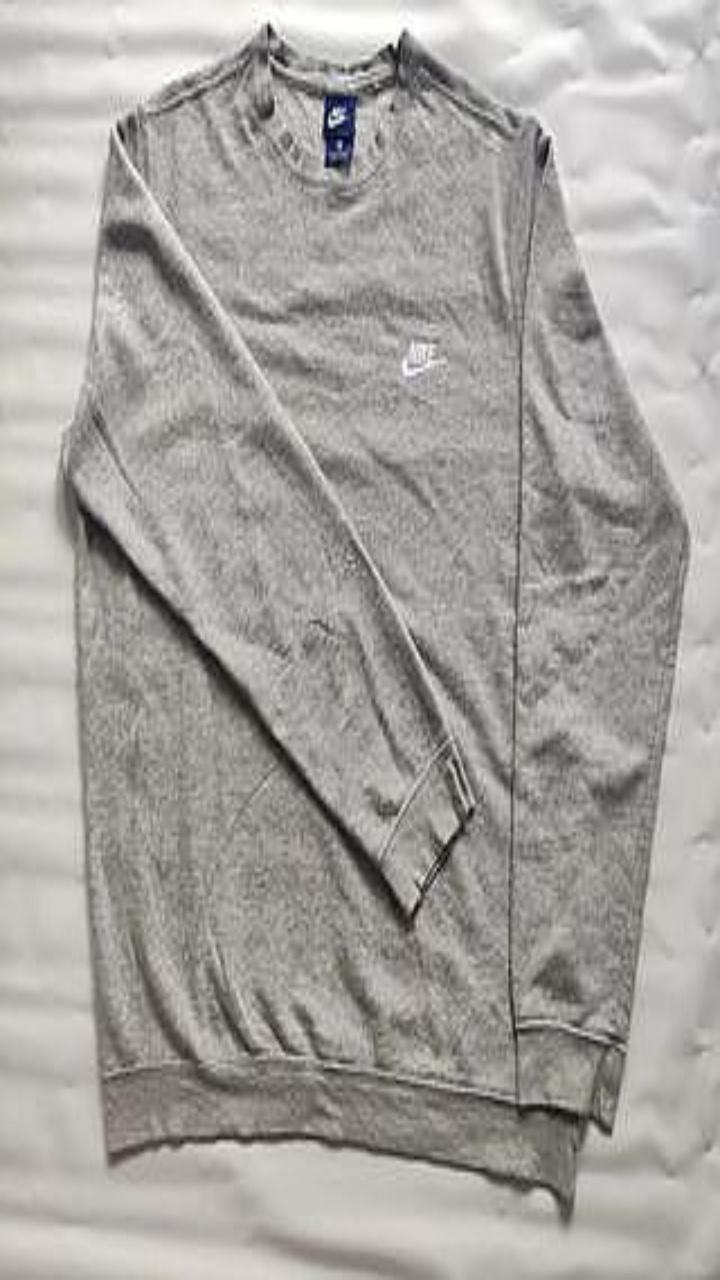T-Shirt: (63, 22, 689, 1201)
